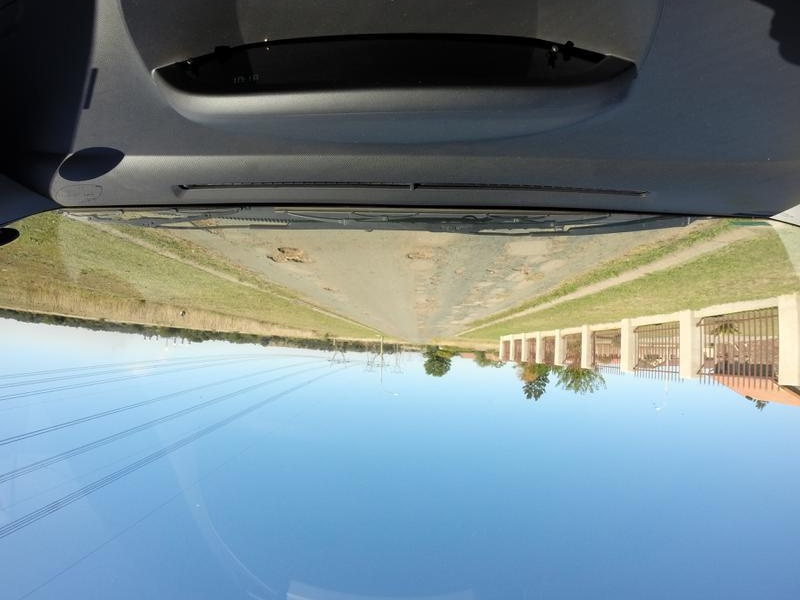pothole: (261, 237, 316, 272), (401, 246, 457, 265), (516, 262, 545, 290), (322, 286, 340, 300), (484, 263, 499, 279), (431, 267, 442, 286), (424, 296, 443, 304), (499, 289, 509, 302)
